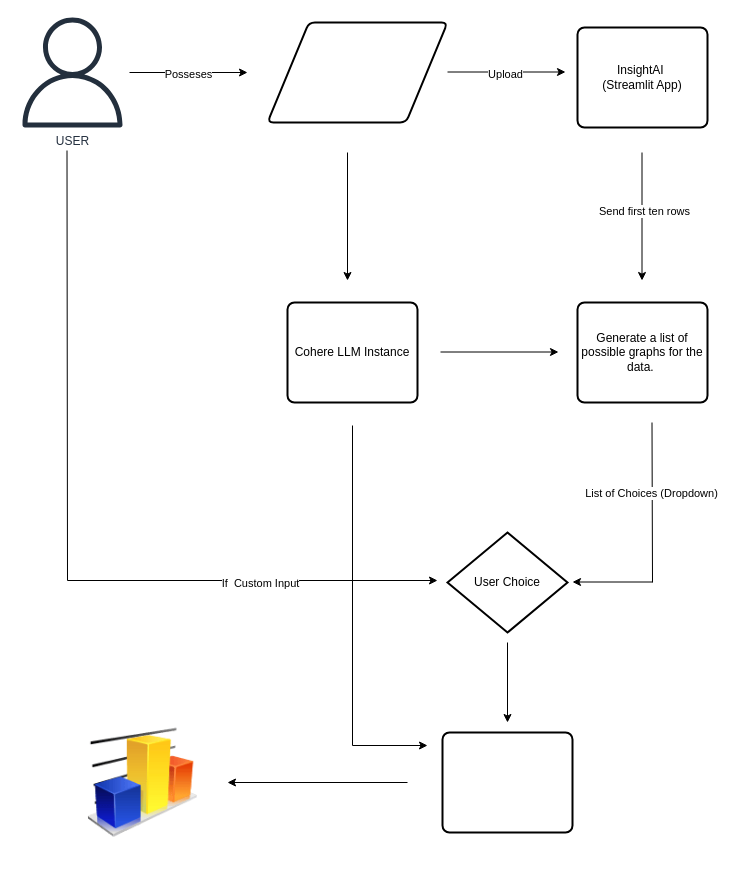
The diagram is 735 pixels wide and 890 high, and some of its shapes have lost their labels. The shapes that lost their labels are listed below. From the top down, each one's centre as x and y in pixels, then its label:
(x=357, y=72): CSV File (User Input)
(x=142, y=782): GENERATED VISUAL (USER OUTPUT)
(x=507, y=782): PandasAI Agent (with Cohere LLM's Backing)
